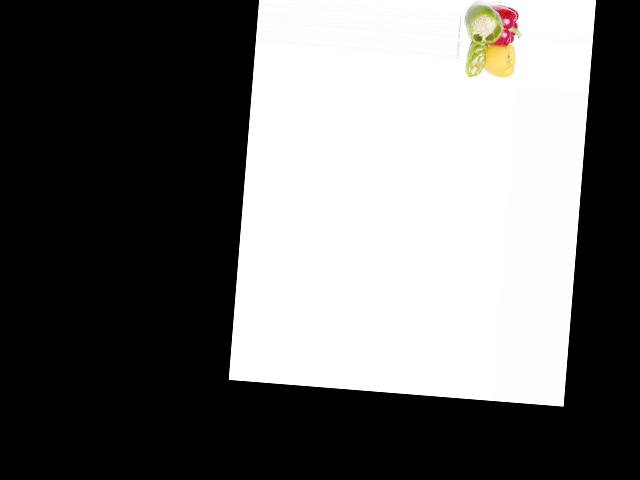bell_pepper: (466, 0, 506, 46)
